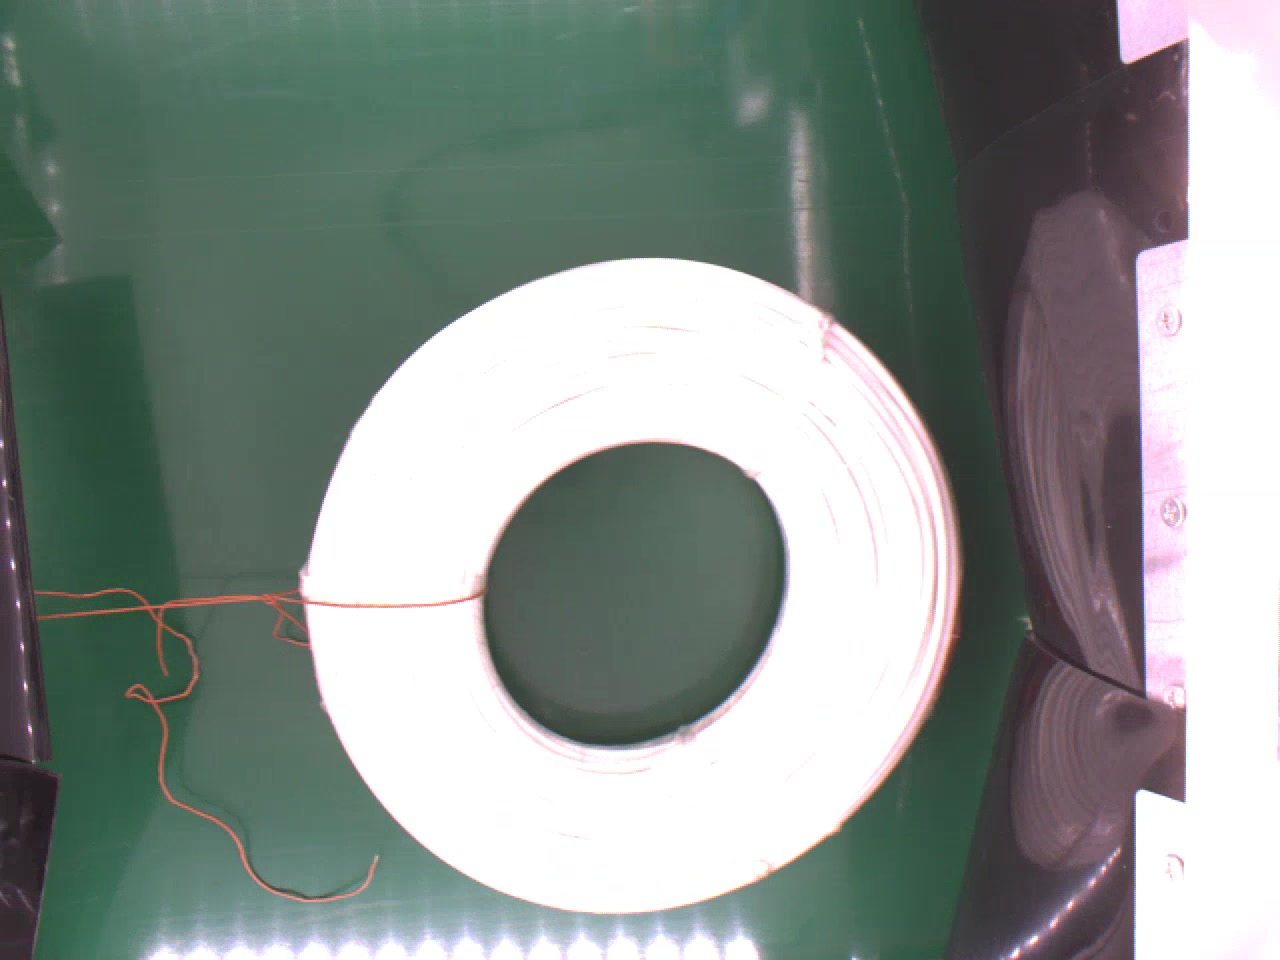white: (300, 251, 968, 916)
